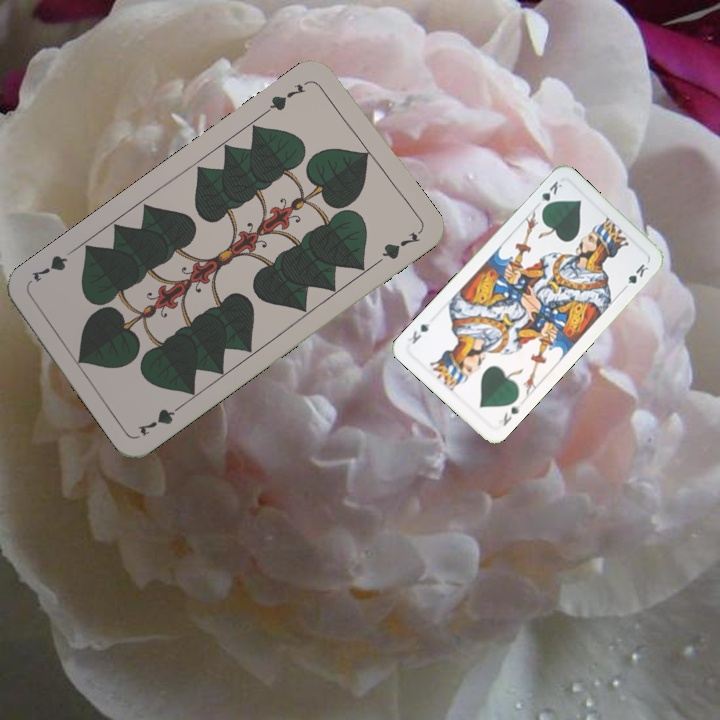G7: (133, 398, 188, 439), (261, 79, 308, 116)
GK: (536, 177, 565, 213), (493, 401, 523, 428)
